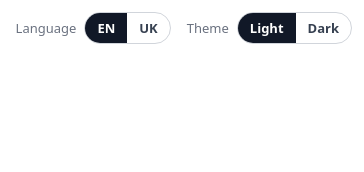
Test: PreferencesBar › switches UI language to Ukrainian
This screenshot has width=364, height=172.
Click the button "UK" at x=149, y=28, box [127,13,170,43]
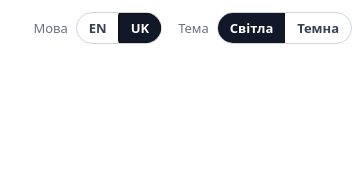
Expected: the text "Мова" is shown, [33,19,68,37]
Expected: the text "Тема" is shown, [178,19,209,37]
